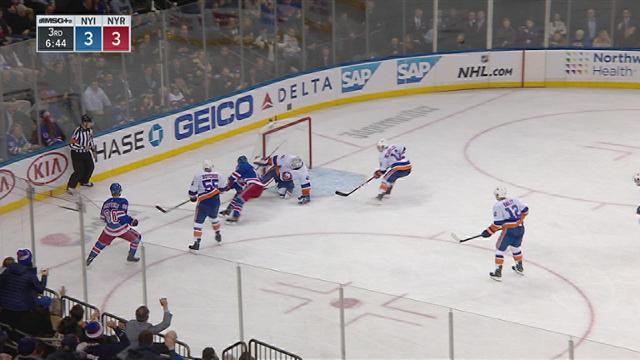geico: (172, 99, 260, 142)
